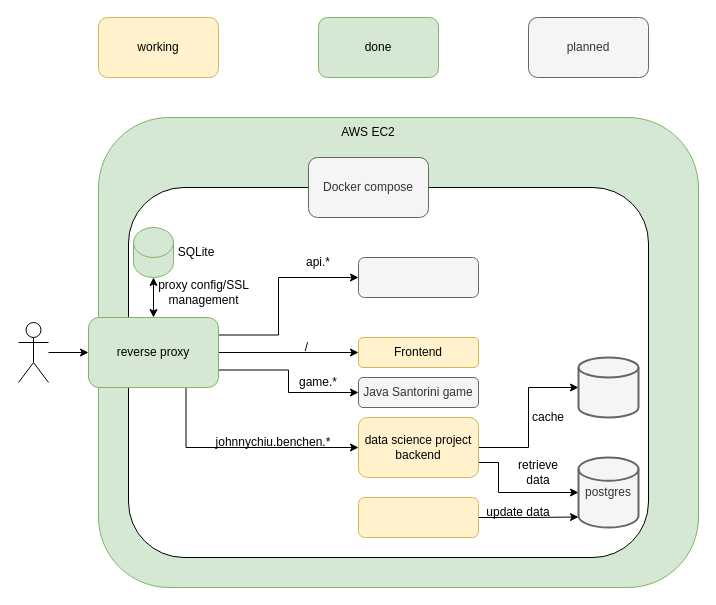
This 716x605 diagram has some shape labels left out. The centre of each missing label's shape, as x and y in pixels:
"backend" belongs at (x=418, y=277).
"redis" belongs at (x=608, y=387).
"scraping worker" belongs at (x=418, y=517).
"Visitor" belongs at (x=33, y=352).
